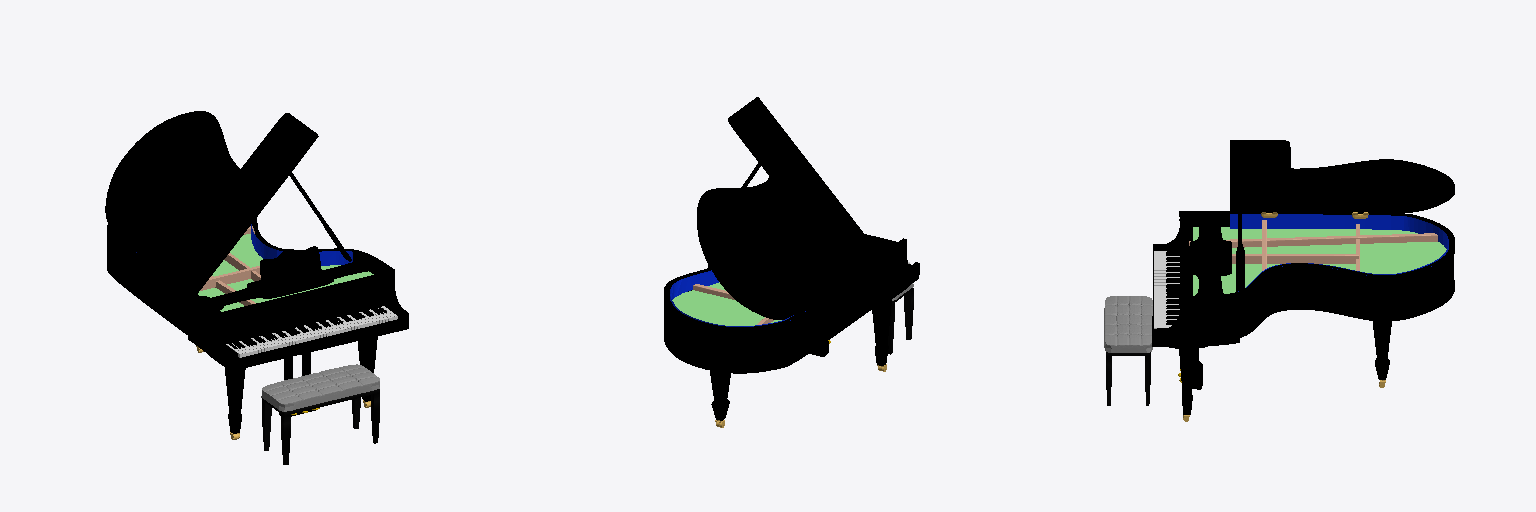
The picture shows the model from 3 angles: view 1: azimuth 30°, elevation 25°; view 2: azimuth 150°, elevation 25°; view 3: azimuth 270°, elevation 25°; orthographic projection.
Parts seen in each view (by area): view 1: Curve01, Plane01, Box93; view 2: Curve01, Box93; view 3: Curve01, Plane01, Box93.
Part boxes in pixels (x1,y1,x2,y2): Curve01: (105,111,408,433); Plane01: (261,364,379,411); Box93: (262,389,379,464); Curve01: (664,97,919,420); Box93: (888,288,913,354); Curve01: (1152,140,1454,414); Plane01: (1104,296,1152,352); Box93: (1106,352,1150,405).
Bounding box in the file's own units: 99.89 × 143 × 171.
10 materials, 2 textured.